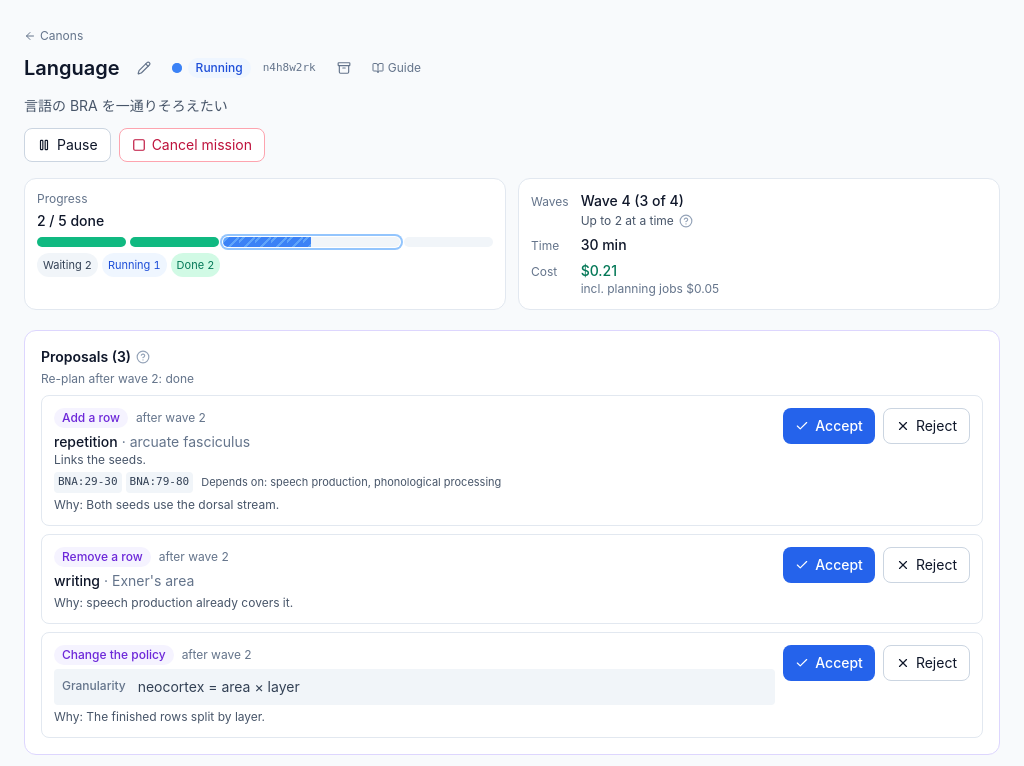
Test case: re-planning while running › keeps Accept and Reject busy until the plan has been read again
Click the button "Accept" in the row of "Add a row".
click(829, 426)  # box [783, 408, 875, 444]
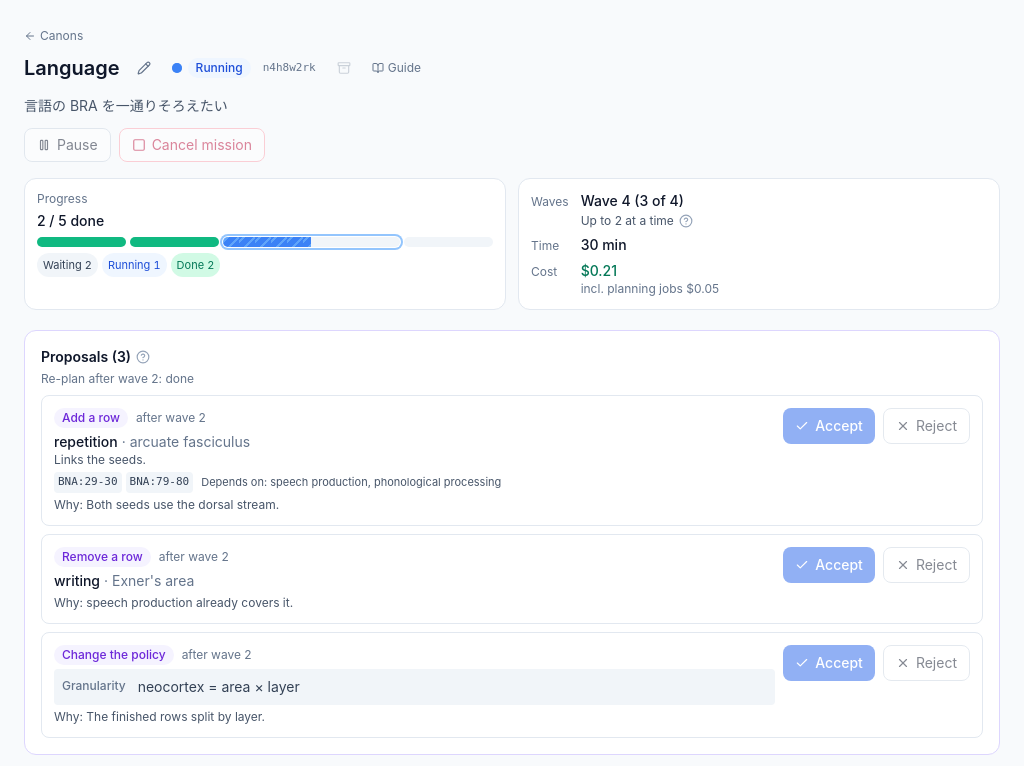
Result: the button "Accept" in the row of "Add a row" is disabled at [783, 408, 875, 444]
Result: the button "Reject" in the row of "Add a row" is disabled at [883, 408, 970, 444]
Result: the button "Accept" in the row of "Remove a row" is disabled at [783, 546, 875, 582]
Click the button "Reject" in the row of "Remove a row".
click(926, 564)  # box [883, 546, 970, 582]
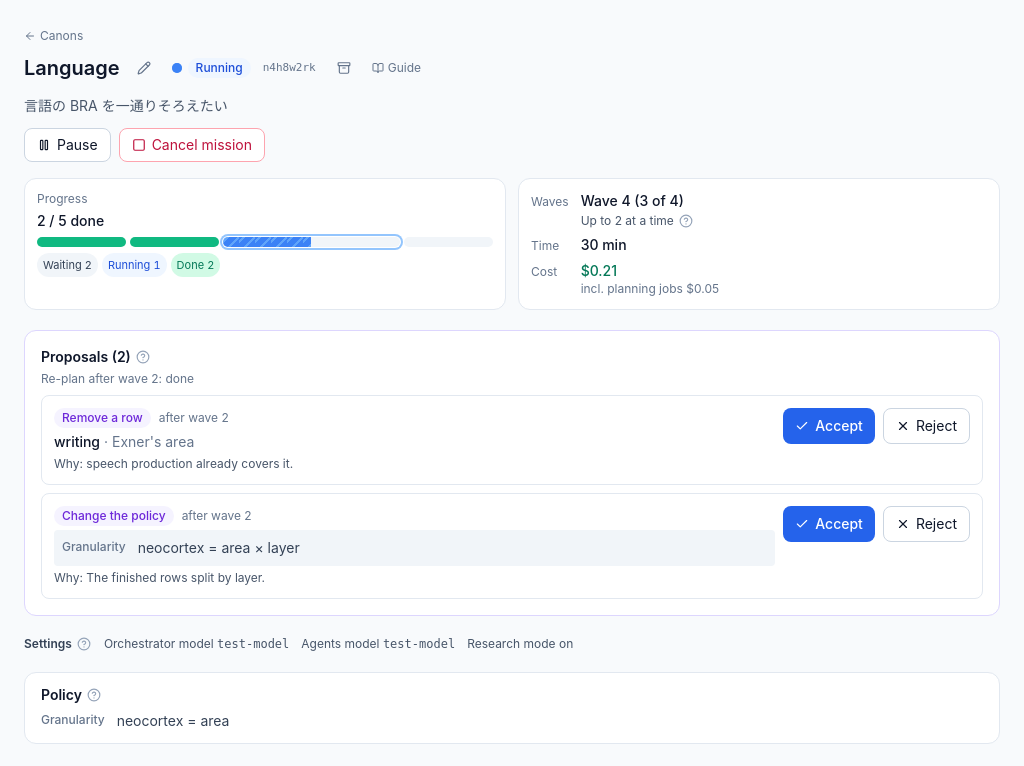
Result: the button "Accept" in the row of "Remove a row" is enabled at [783, 408, 875, 444]
Result: the button "Reject" in the row of "Remove a row" is enabled at [883, 408, 970, 444]
Result: the button "Accept" in the row of "Change the policy" is enabled at [783, 506, 875, 542]
